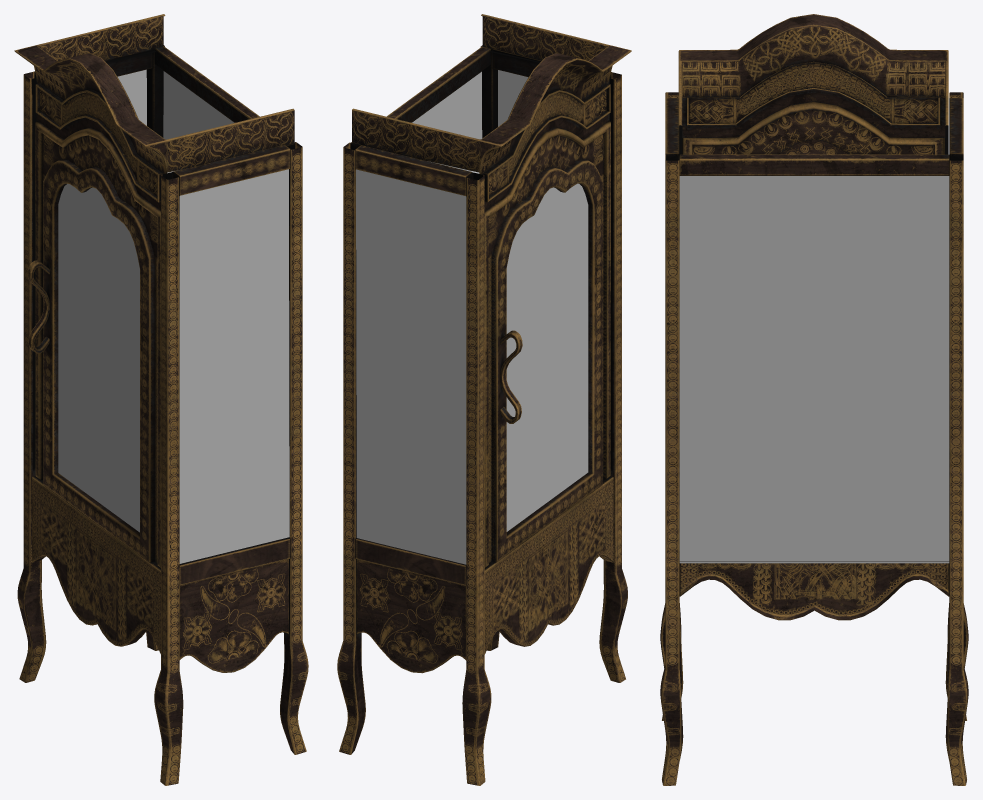
The model's file is SM_VitrinSingle.fbx.
3 renders of one model, left to right at view 1: azimuth 30°, elevation 25°; view 2: azimuth 150°, elevation 25°; view 3: azimuth 270°, elevation 25°, orthographic. The views are drawn at different scales.
Visible parts, largest first — view 1: SM_VitrinSingle_LOD0; view 2: SM_VitrinSingle_LOD0; view 3: SM_VitrinSingle_LOD0.
Boxes of the visible parts, x1,y1,x2,y2 form: SM_VitrinSingle_LOD0: [14, 14, 308, 785]; SM_VitrinSingle_LOD0: [337, 14, 631, 785]; SM_VitrinSingle_LOD0: [660, 14, 968, 785].
Size of the model in its own units: 55.47 by 89.61 by 223.
2 materials, 1 textured.
